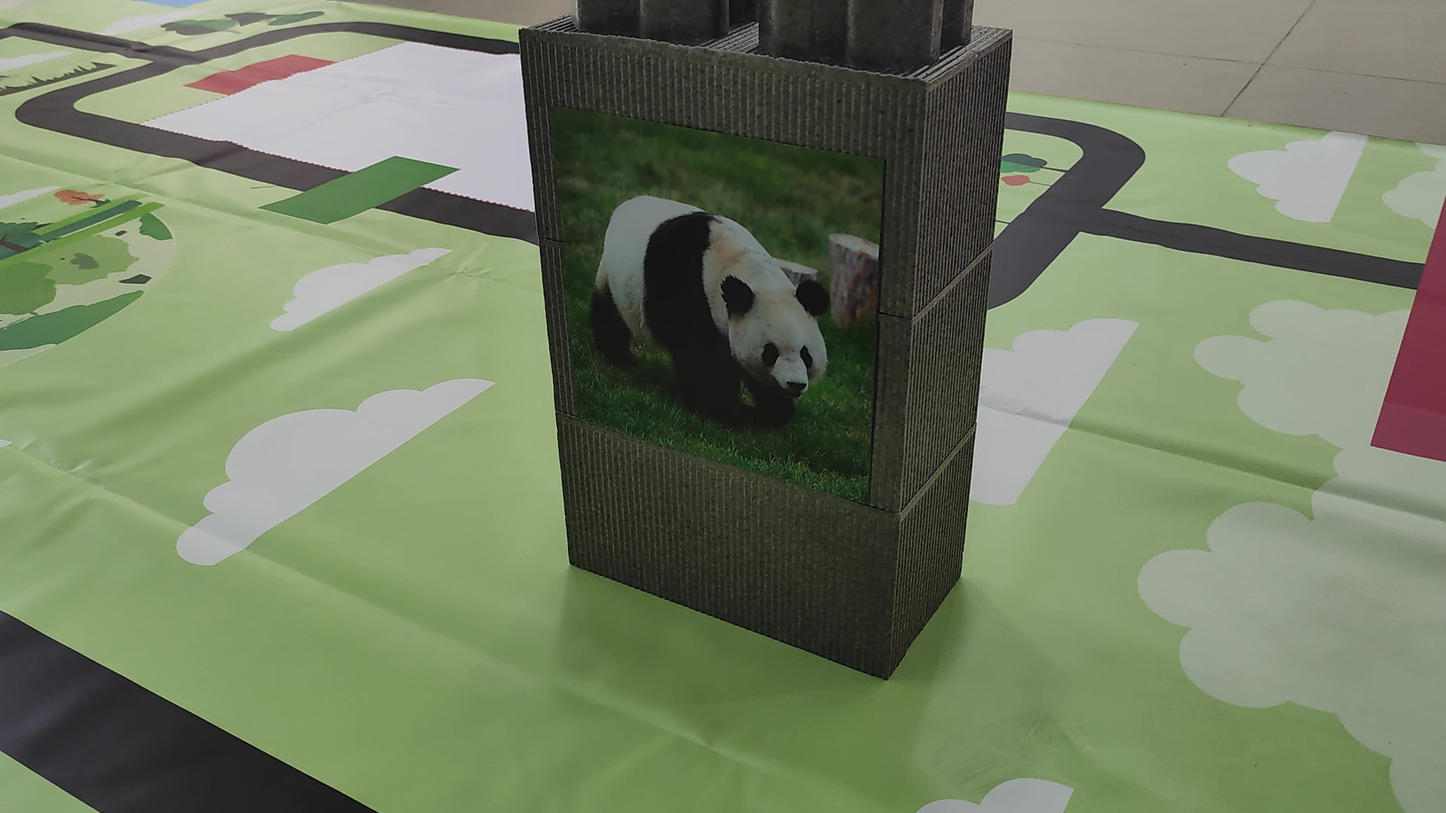panda: (561, 163, 859, 445)
